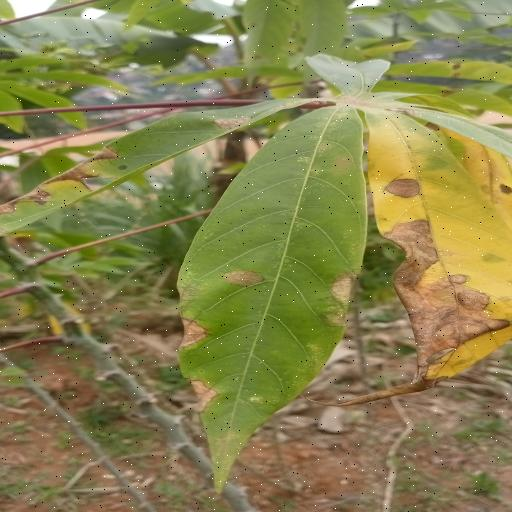Cassava_Root_Rot: (11, 55, 512, 468)
